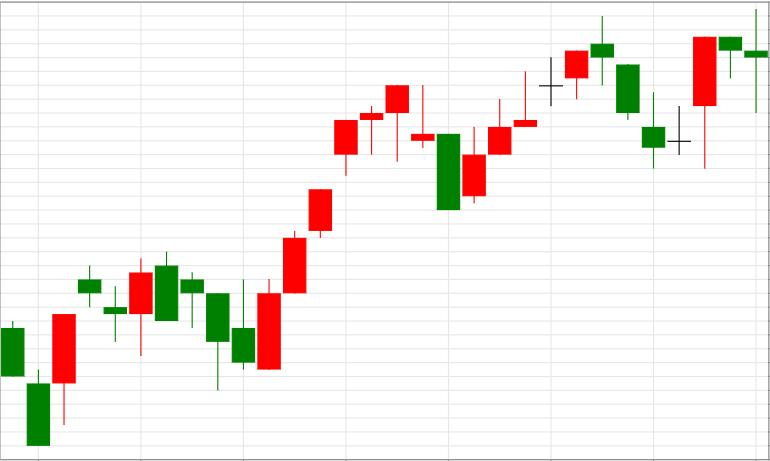evening_star_fall: (463, 15, 639, 202)
hanging_man_fall: (258, 85, 409, 370)
inverse_hammer_rise: (155, 251, 254, 391)
